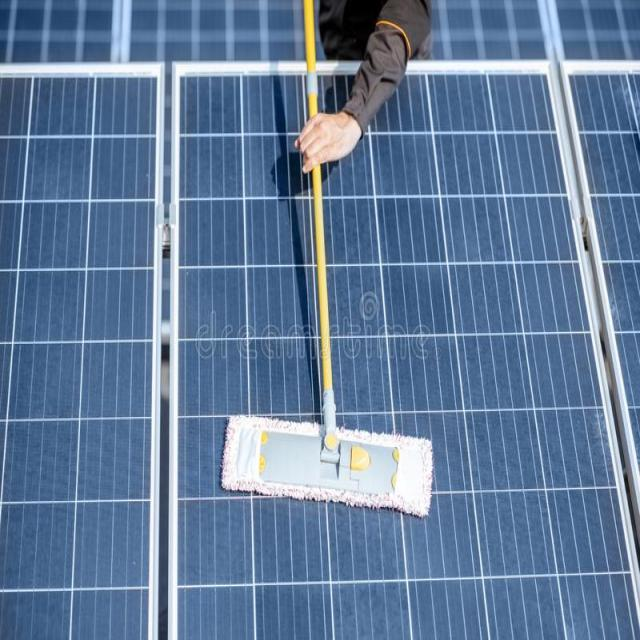dust-solar-panel: (1, 62, 640, 638)
